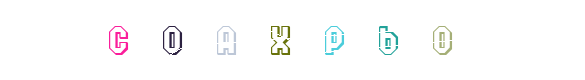0: (133, 0, 213, 80)
6: (273, 0, 353, 80)
A: (241, 0, 321, 80)
C: (79, 0, 159, 80)
O: (326, 0, 406, 80)
P: (253, 0, 333, 80)
X: (253, 0, 333, 80)
